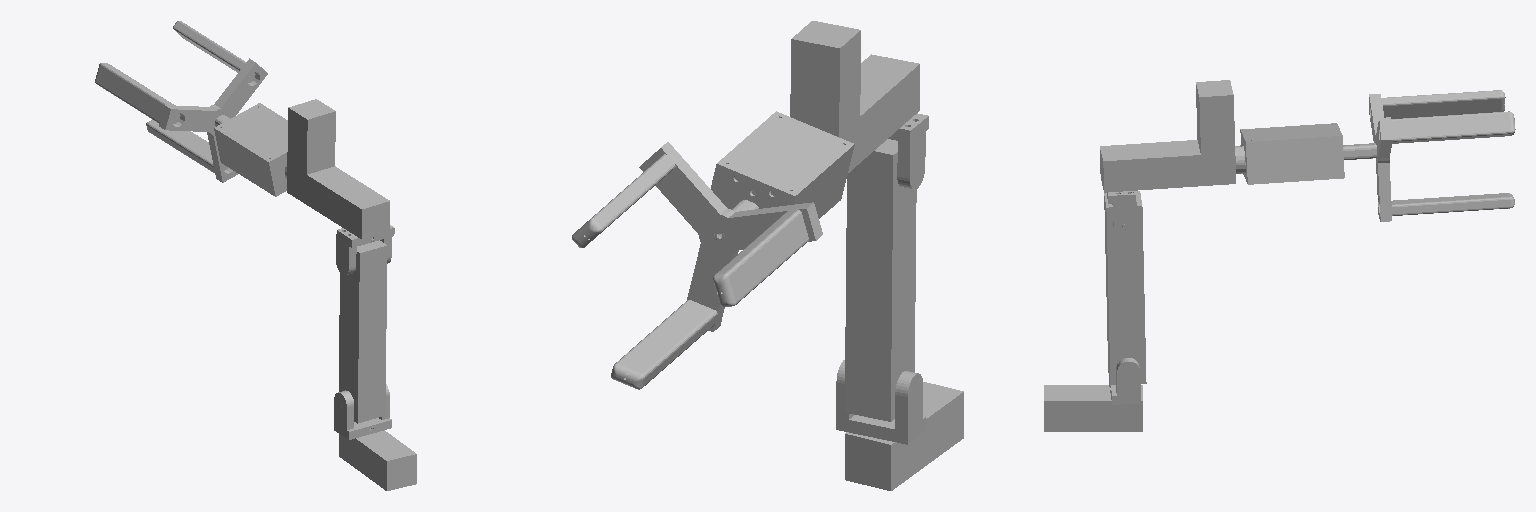
URDF robot description (5DOFArm):
<?xml version="1.0" encoding="utf-8"?>

<robot
  name="5DOFArm">
  <link
    name="Motor1">
    <inertial>
      <origin
        xyz="-8.3481817953826E-06 -0.0339238955841094 0.0211254794790421"
        rpy="0 0 0" />
      <mass
        value="0.195948164313462" />
      <inertia
        ixx="0.000268946195921621"
        ixy="1.37361739472899E-08"
        ixz="6.73753371510302E-09"
        iyy="5.4818408490663E-05"
        iyz="-5.13728177875135E-06"
        izz="0.00028132542818711" />
    </inertial>
    <visual>
      <origin
        xyz="0 0 0"
        rpy="0 0 0" />
      <geometry>
        <mesh
          filename="package://5DOFArm/meshes/Motor1.STL" />
      </geometry>
      <material
        name="">
        <color
          rgba="0.752941176470588 0.752941176470588 0.752941176470588 1" />
      </material>
    </visual>
    <collision>
      <origin
        xyz="0 0 0"
        rpy="0 0 0" />
      <geometry>
        <mesh
          filename="package://5DOFArm/meshes/Motor1.STL" />
      </geometry>
    </collision>
  </link>
  <link
    name="ConnectingJointA">
    <inertial>
      <origin
        xyz="-4.80530943714544E-05 0.00152789147324323 0.0199929397826317"
        rpy="0 0 0" />
      <mass
        value="0.0553894751386379" />
      <inertia
        ixx="1.01366009285935E-05"
        ixy="1.55656523406104E-10"
        ixz="8.86193755830673E-10"
        iyy="1.47698235348991E-05"
        iyz="-2.02524178578313E-08"
        izz="1.46211245395671E-05" />
    </inertial>
    <visual>
      <origin
        xyz="0 0 0"
        rpy="0 0 0" />
      <geometry>
        <mesh
          filename="package://5DOFArm/meshes/ConnectingJointA.STL" />
      </geometry>
      <material
        name="">
        <color
          rgba="0.752941176470588 0.752941176470588 0.752941176470588 1" />
      </material>
    </visual>
    <collision>
      <origin
        xyz="0 0 0"
        rpy="0 0 0" />
      <geometry>
        <mesh
          filename="package://5DOFArm/meshes/ConnectingJointA.STL" />
      </geometry>
    </collision>
  </link>
  <joint
    name="ConnectingJoint1"
    type="continuous">
    <origin
      xyz="0 0 0.044"
      rpy="0 0 0.066433" />
    <parent
      link="Motor1" />
    <child
      link="ConnectingJointA" />
    <axis
      xyz="0 0 1" />
  </joint>
  <link
    name="Motor2">
    <inertial>
      <origin
        xyz="0.000843968187271227 -0.000718332252681683 0.0340099376338211"
        rpy="0 0 0" />
      <mass
        value="0.195408857598652" />
      <inertia
        ixx="0.000279745738336469"
        ixy="1.1202981933852E-07"
        ixz="-5.68950943432409E-06"
        iyy="0.00026711095979096"
        iyz="4.42263757751427E-06"
        izz="5.46826216554872E-05" />
    </inertial>
    <visual>
      <origin
        xyz="0 0 0"
        rpy="0 0 0" />
      <geometry>
        <mesh
          filename="package://5DOFArm/meshes/Motor2.STL" />
      </geometry>
      <material
        name="">
        <color
          rgba="0.752941176470588 0.752941176470588 0.752941176470588 1" />
      </material>
    </visual>
    <collision>
      <origin
        xyz="0 0 0"
        rpy="0 0 0" />
      <geometry>
        <mesh
          filename="package://5DOFArm/meshes/Motor2.STL" />
      </geometry>
    </collision>
  </link>
  <joint
    name="ConnectingJointA2"
    type="continuous">
    <origin
      xyz="0 0.003 0.045"
      rpy="0 0 0" />
    <parent
      link="ConnectingJointA" />
    <child
      link="Motor2" />
    <axis
      xyz="-1 0 0" />
  </joint>
  <link
    name="Motor3">
    <inertial>
      <origin
        xyz="0.00335886157392549 0.137291968696234 0.0950916743893828"
        rpy="0 0 0" />
      <mass
        value="0.19540885759776" />
      <inertia
        ixx="0.000279745738337905"
        ixy="6.73751546776728E-09"
        ixz="-5.69060830572569E-06"
        iyy="0.00026720299583469"
        iyz="1.37361711252987E-08"
        izz="5.45905856134453E-05" />
    </inertial>
    <visual>
      <origin
        xyz="0 0 0"
        rpy="0 0 0" />
      <geometry>
        <mesh
          filename="package://5DOFArm/meshes/Motor3.STL" />
      </geometry>
      <material
        name="">
        <color
          rgba="0.752941176470588 0.752941176470588 0.752941176470588 1" />
      </material>
    </visual>
    <collision>
      <origin
        xyz="0 0 0"
        rpy="0 0 0" />
      <geometry>
        <mesh
          filename="package://5DOFArm/meshes/Motor3.STL" />
      </geometry>
    </collision>
  </link>
  <joint
    name="Motor2to3Fixed"
    type="fixed">
    <origin
      xyz="-0.0042028 -0.13883 0.072009"
      rpy="0.020872 0 0" />
    <parent
      link="Motor2" />
    <child
      link="Motor3" />
    <axis
      xyz="0 0 0" />
  </joint>
  <link
    name="ConnectingJointB">
    <inertial>
      <origin
        xyz="0.00425088285560192 -0.00160430277859039 0.0249989275134803"
        rpy="0 0 0" />
      <mass
        value="0.0553894751386379" />
      <inertia
        ixx="1.01366009285935E-05"
        ixy="-1.60339742804096E-10"
        ixz="8.85358398061052E-10"
        iyy="1.47696052281304E-05"
        iyz="2.10374610736327E-08"
        izz="1.46213428463358E-05" />
    </inertial>
    <visual>
      <origin
        xyz="0 0 0"
        rpy="0 0 0" />
      <geometry>
        <mesh
          filename="package://5DOFArm/meshes/ConnectingJointB.STL" />
      </geometry>
      <material
        name="">
        <color
          rgba="0.752941176470588 0.752941176470588 0.752941176470588 1" />
      </material>
    </visual>
    <collision>
      <origin
        xyz="0 0 0"
        rpy="0 0 0" />
      <geometry>
        <mesh
          filename="package://5DOFArm/meshes/ConnectingJointB.STL" />
      </geometry>
    </collision>
  </link>
  <joint
    name="ConnectingJointB1"
    type="continuous">
    <origin
      xyz="0 0.1373 0.12911"
      rpy="0 0 0" />
    <parent
      link="Motor3" />
    <child
      link="ConnectingJointB" />
    <axis
      xyz="1 0 0" />
  </joint>
  <link
    name="Motor4">
    <inertial>
      <origin
        xyz="-0.00113218214818281 0.0339049985250659 0.0348579473727495"
        rpy="0 0 0" />
      <mass
        value="0.195948164366842" />
      <inertia
        ixx="0.000268712104683053"
        ixy="7.0760744892282E-06"
        ixz="1.63455208337381E-07"
        iyy="5.50524997357663E-05"
        iyz="-5.13468517837509E-06"
        izz="0.000281325428190112" />
    </inertial>
    <visual>
      <origin
        xyz="0 0 0"
        rpy="0 0 0" />
      <geometry>
        <mesh
          filename="package://5DOFArm/meshes/Motor4.STL" />
      </geometry>
      <material
        name="">
        <color
          rgba="0.752941176470588 0.752941176470588 0.752941176470588 1" />
      </material>
    </visual>
    <collision>
      <origin
        xyz="0 0 0"
        rpy="0 0 0" />
      <geometry>
        <mesh
          filename="package://5DOFArm/meshes/Motor4.STL" />
      </geometry>
    </collision>
  </link>
  <joint
    name="ConnectingJointB2"
    type="continuous">
    <origin
      xyz="0.0042028 -0.0031745 0.033"
      rpy="0.0052871 0 0" />
    <parent
      link="ConnectingJointB" />
    <child
      link="Motor4" />
    <axis
      xyz="0 0 -1" />
  </joint>
  <link
    name="Motor5">
    <inertial>
      <origin
        xyz="0.102740842268571 0.0585298349975694 -0.039124811870007"
        rpy="0 0 0" />
      <mass
        value="0.195948164492237" />
      <inertia
        ixx="0.000268946195940572"
        ixy="6.73752126133203E-09"
        ixz="-1.37361629210317E-08"
        iyy="0.000281325428211118"
        iyz="5.13728178679393E-06"
        izz="5.48184085161642E-05" />
    </inertial>
    <visual>
      <origin
        xyz="0 0 0"
        rpy="0 0 0" />
      <geometry>
        <mesh
          filename="package://5DOFArm/meshes/Motor5.STL" />
      </geometry>
      <material
        name="">
        <color
          rgba="0.752941176470588 0.752941176470588 0.752941176470588 1" />
      </material>
    </visual>
    <collision>
      <origin
        xyz="0 0 0"
        rpy="0 0 0" />
      <geometry>
        <mesh
          filename="package://5DOFArm/meshes/Motor5.STL" />
      </geometry>
    </collision>
  </link>
  <joint
    name="Motor4to5"
    type="fixed">
    <origin
      xyz="-0.10483 0.061156 0.10803"
      rpy="0 0 0.033134" />
    <parent
      link="Motor4" />
    <child
      link="Motor5" />
    <axis
      xyz="0 0 0" />
  </joint>
  <link
    name="Grapper">
    <inertial>
      <origin
        xyz="1.20240172973851E-06 0.145165293943956 0.00191044941687646"
        rpy="0 0 0" />
      <mass
        value="0.533035535630649" />
      <inertia
        ixx="0.000821014385608279"
        ixy="-1.01680436314611E-08"
        ixz="-1.9454749724721E-09"
        iyy="0.000472118630732692"
        iyz="-1.80227099416518E-06"
        izz="0.000880978619783394" />
    </inertial>
    <visual>
      <origin
        xyz="0 0 0"
        rpy="0 0 0" />
      <geometry>
        <mesh
          filename="package://5DOFArm/meshes/Grapper.STL" />
      </geometry>
      <material
        name="">
        <color
          rgba="0.752941176470588 0.752941176470588 0.752941176470588 1" />
      </material>
    </visual>
    <collision>
      <origin
        xyz="0 0 0"
        rpy="0 0 0" />
      <geometry>
        <mesh
          filename="package://5DOFArm/meshes/Grapper.STL" />
      </geometry>
    </collision>
  </link>
  <joint
    name="Motor5toGrapper"
    type="continuous">
    <origin
      xyz="0.10275 0.081137 -0.073049"
      rpy="0 -0.21955 0" />
    <parent
      link="Motor5" />
    <child
      link="Grapper" />
    <axis
      xyz="0 -1 0" />
  </joint>
</robot>

--- Render facts (derived) ---
3 views of the same robot in one strip: view 1: azimuth 30°, elevation 25°; view 2: azimuth 150°, elevation 25°; view 3: azimuth 270°, elevation 25° (orthographic).
Model 5DOFArm with 8 links and 7 joints (5 continuous, 2 fixed), rooted at Motor1, posed all joints at 0.
Visible links, largest first — view 1: Grapper, Motor4, Motor3, Motor5, Motor2, Motor1, ConnectingJointA, ConnectingJointB; view 2: Grapper, Motor2, Motor3, Motor5, Motor1, Motor4, ConnectingJointA, ConnectingJointB; view 3: Grapper, Motor4, Motor1, Motor5, Motor3, Motor2, ConnectingJointA, ConnectingJointB.
Link boxes in pixels (x1,y1,x2,y2): Grapper: [95, 21, 287, 196]; Motor4: [306, 166, 389, 238]; Motor3: [339, 240, 387, 337]; Motor5: [287, 99, 335, 203]; Motor2: [339, 326, 385, 423]; Motor1: [339, 421, 416, 490]; ConnectingJointA: [334, 384, 391, 439]; ConnectingJointB: [336, 225, 394, 275]; Grapper: [572, 111, 854, 389]; Motor2: [845, 270, 916, 421]; Motor3: [846, 139, 919, 288]; Motor5: [790, 21, 860, 172]; Motor1: [845, 382, 963, 490]; Motor4: [860, 54, 919, 162]; ConnectingJointA: [836, 360, 925, 444]; ConnectingJointB: [888, 113, 928, 189]; Grapper: [1235, 90, 1515, 221]; Motor4: [1100, 140, 1201, 192]; Motor1: [1044, 385, 1142, 431]; Motor5: [1196, 80, 1235, 185]; Motor3: [1104, 191, 1144, 296]; Motor2: [1106, 284, 1146, 385]; ConnectingJointA: [1109, 358, 1140, 404]; ConnectingJointB: [1107, 191, 1136, 237].
Size in the robot's own frame: 0.1761 by 0.5993 by 0.4667 metres.
Meshes: 8 distinct files referenced, 8 mesh visuals loaded (8 binary STL).